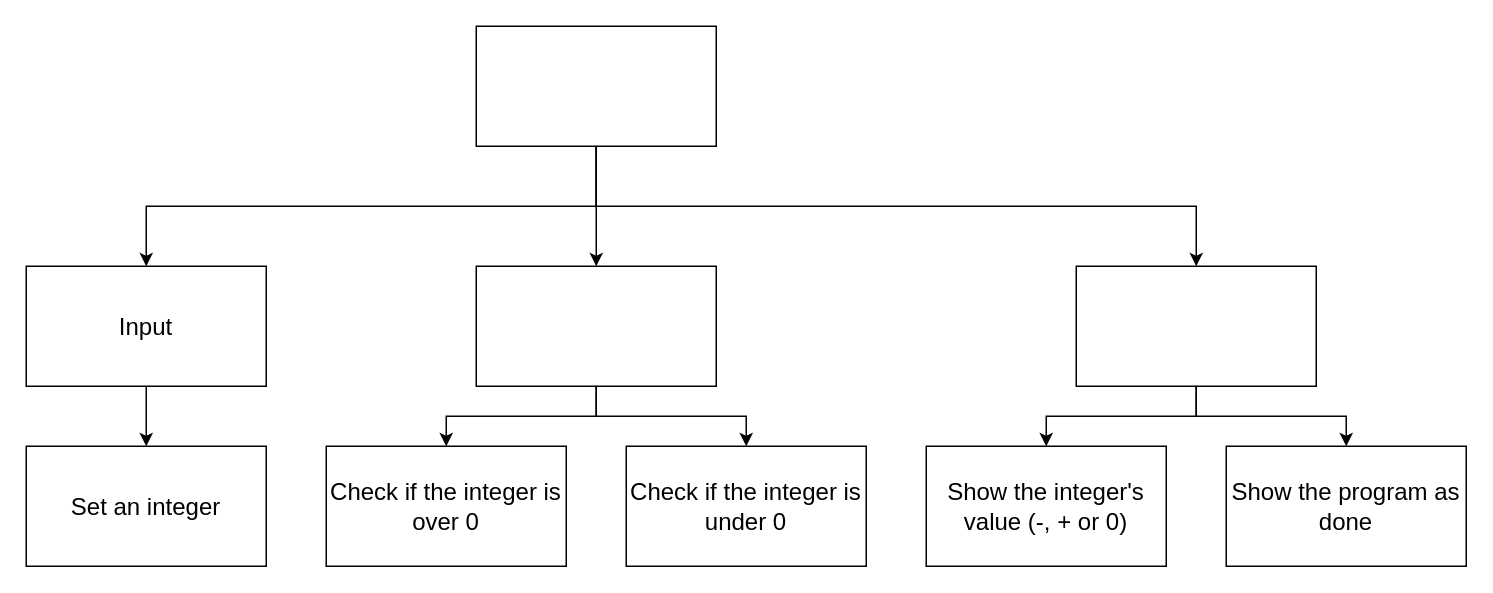
Some shapes in this 1493 by 593 pixel diagram are drawn without their labels. Each missing label, with the centre of its shape:
Output: pixel 1195 325
Positive or Negative Integers: pixel 595 85
Process: pixel 595 325
